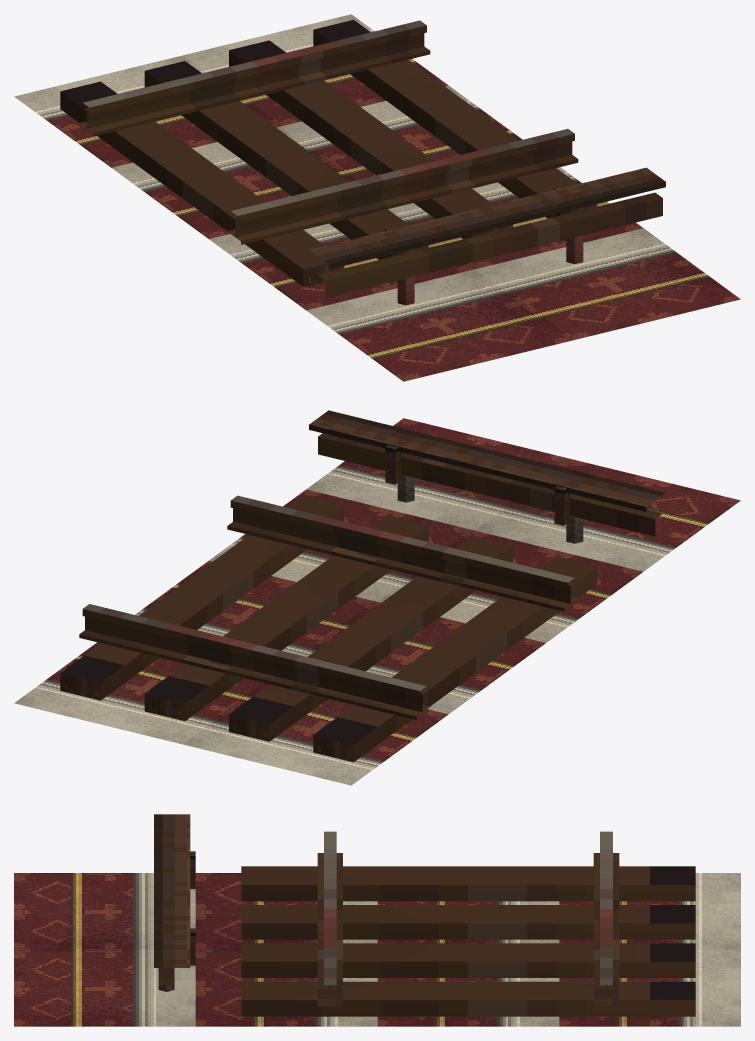
File: track.glb
3 renders of one model, top to bottom at view 1: azimuth 30°, elevation 25°; view 2: azimuth 150°, elevation 25°; view 3: azimuth 270°, elevation 25°, orthographic. The views are drawn at different scales.
Visible parts, largest first — view 1: track; view 2: track; view 3: track.
Part boxes in pixels (x1=…): track: x1=14, y1=14, x2=740, y2=381; track: x1=14, y1=410, x2=740, y2=785; track: x1=14, y1=814, x2=740, y2=1026.
Bounding box in the file's own units: 2 × 0.355 × 4.
